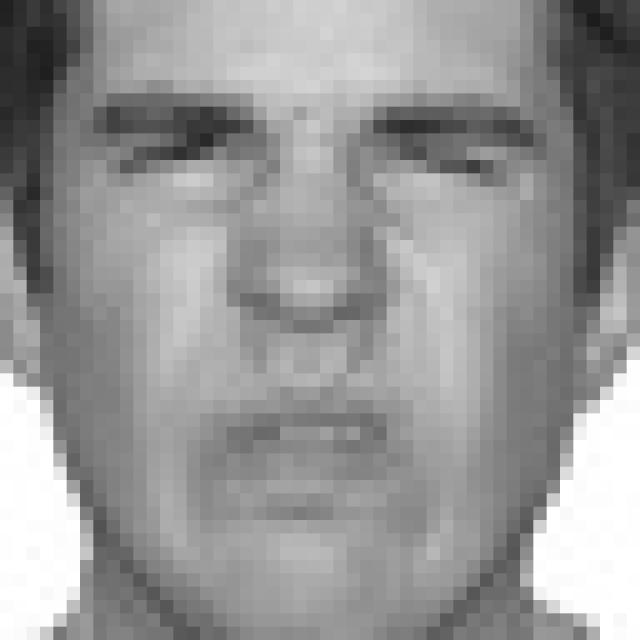disgust: (88, 86, 547, 538)
